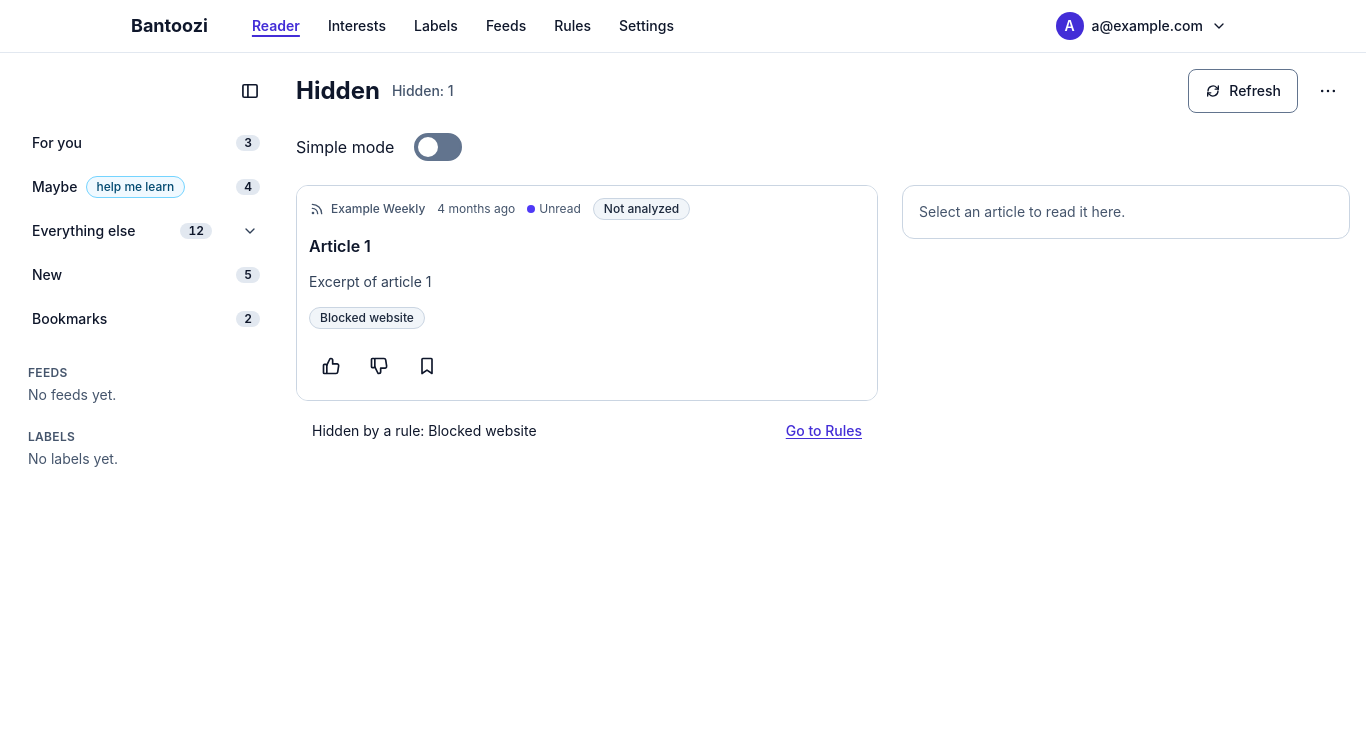
Test: Why this? from a row › opens from a row of the Hidden view, whose chip names the rule that hides the article
Expected: the element "Article 1" is shown, [296,185,878,401]
Click the button with aria-label "Blocked website, Why this?" at (367, 318), box [309,296,425,340]
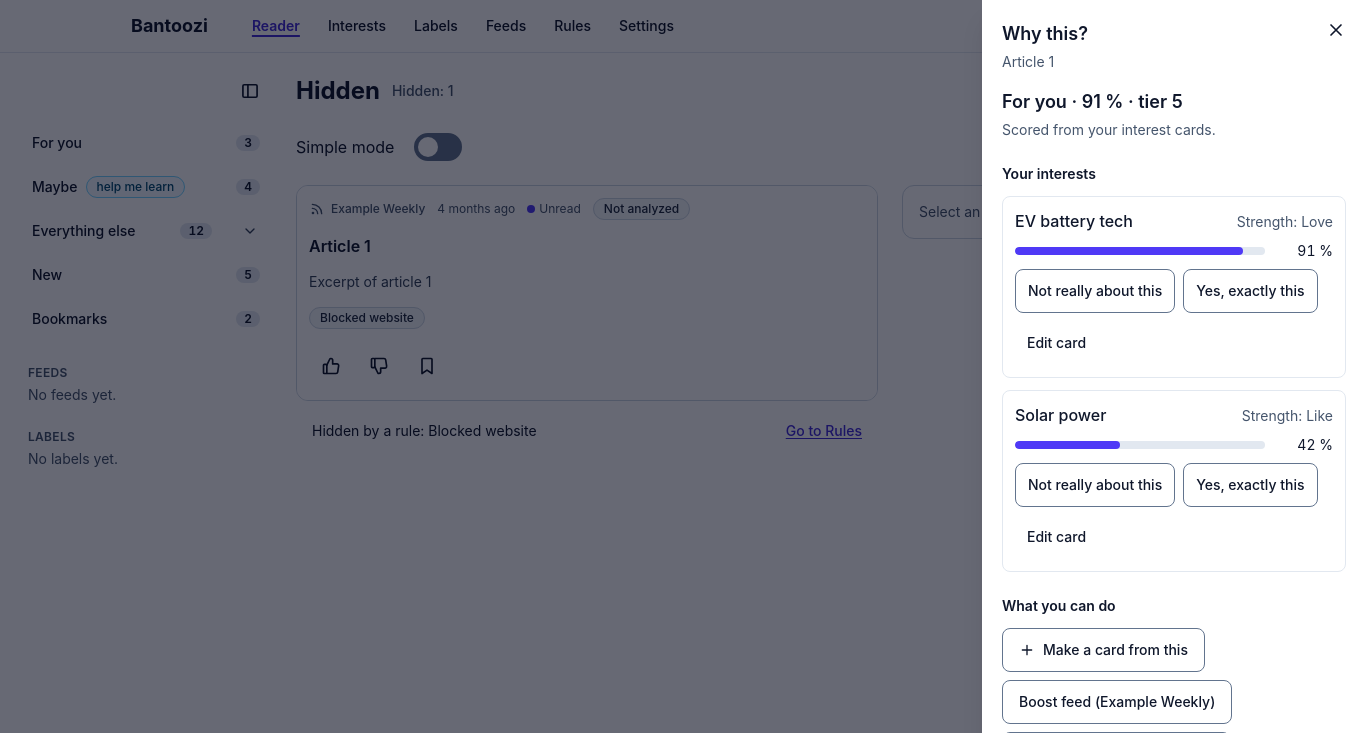
Now the heading "Your interests" is shown, box [1002,165,1096,182]
